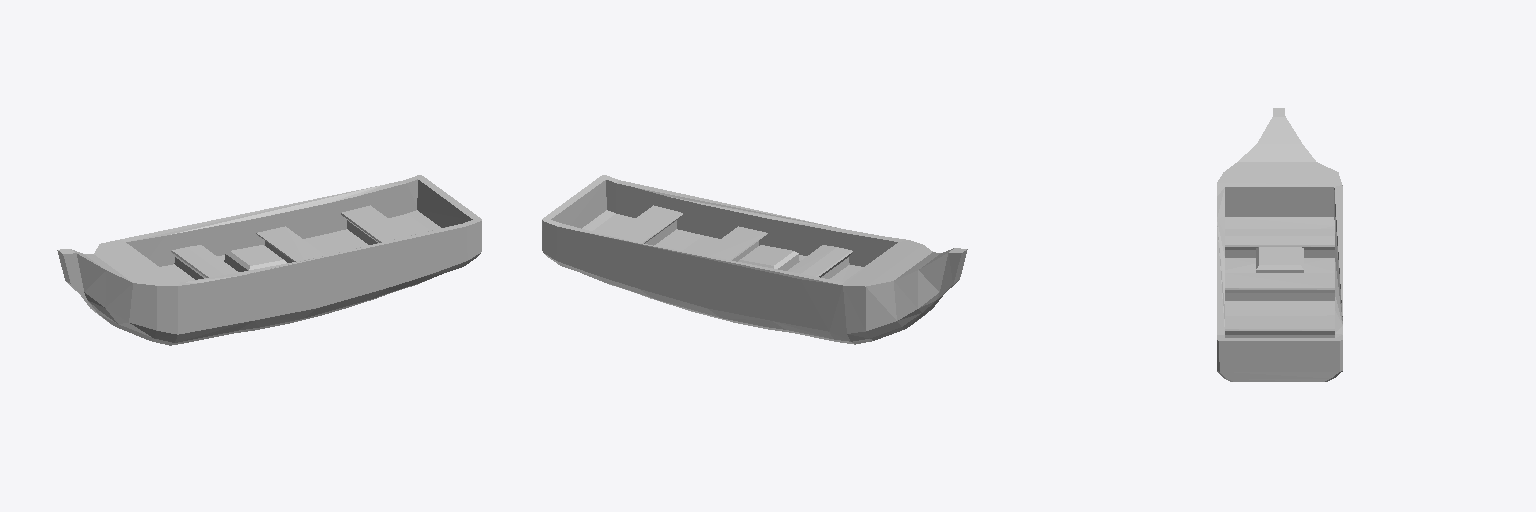
Rendered from wip_boat.obj.
The picture shows the model from 3 angles: view 1: azimuth 30°, elevation 25°; view 2: azimuth 150°, elevation 25°; view 3: azimuth 270°, elevation 25°; orthographic projection.
Visible parts, largest first — view 1: Cube_Cube.002; view 2: Cube_Cube.002; view 3: Cube_Cube.002.
Boxes of the visible parts, box(x1,y1,x2,y2) form: Cube_Cube.002: box(57, 175, 481, 345); Cube_Cube.002: box(542, 175, 967, 344); Cube_Cube.002: box(1217, 108, 1342, 381).
Size of the model in its own units: 17.41 by 4.43 by 4.85.